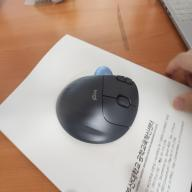mouse: (53, 65, 142, 147)
